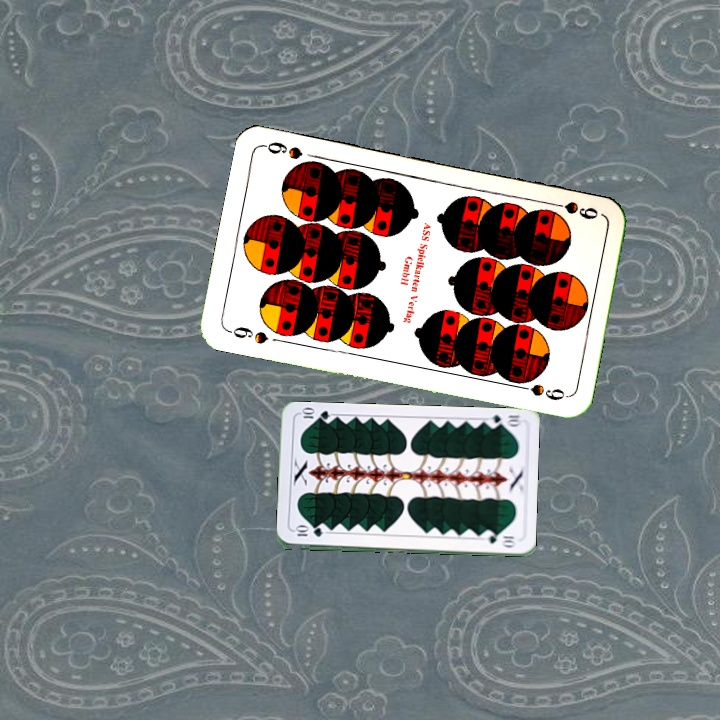G10: (483, 411, 523, 430), (291, 525, 325, 539)
S9: (543, 197, 601, 222), (223, 322, 271, 347)
